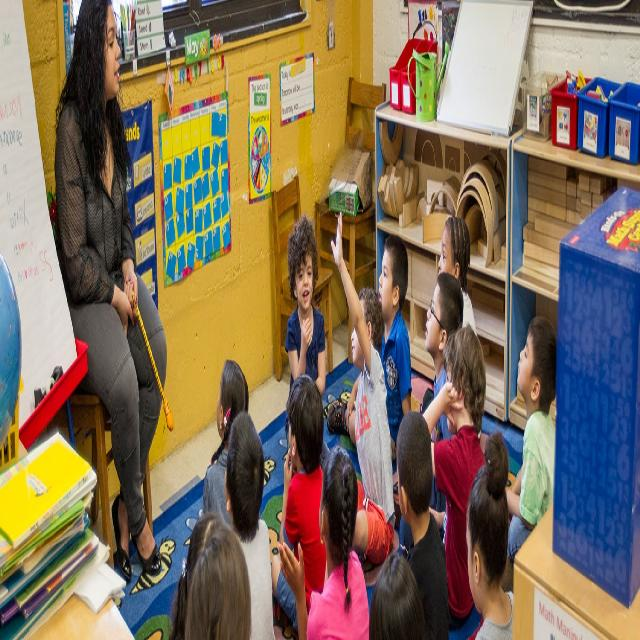body: (51, 0, 176, 588), (330, 209, 396, 565), (326, 231, 413, 464), (398, 270, 466, 563), (422, 319, 486, 630), (277, 442, 369, 640), (270, 368, 327, 636), (505, 313, 557, 564), (396, 410, 450, 640), (223, 411, 275, 639), (170, 506, 253, 640), (465, 429, 515, 640), (284, 211, 327, 456), (202, 357, 250, 531), (367, 545, 427, 640), (436, 216, 478, 339)
